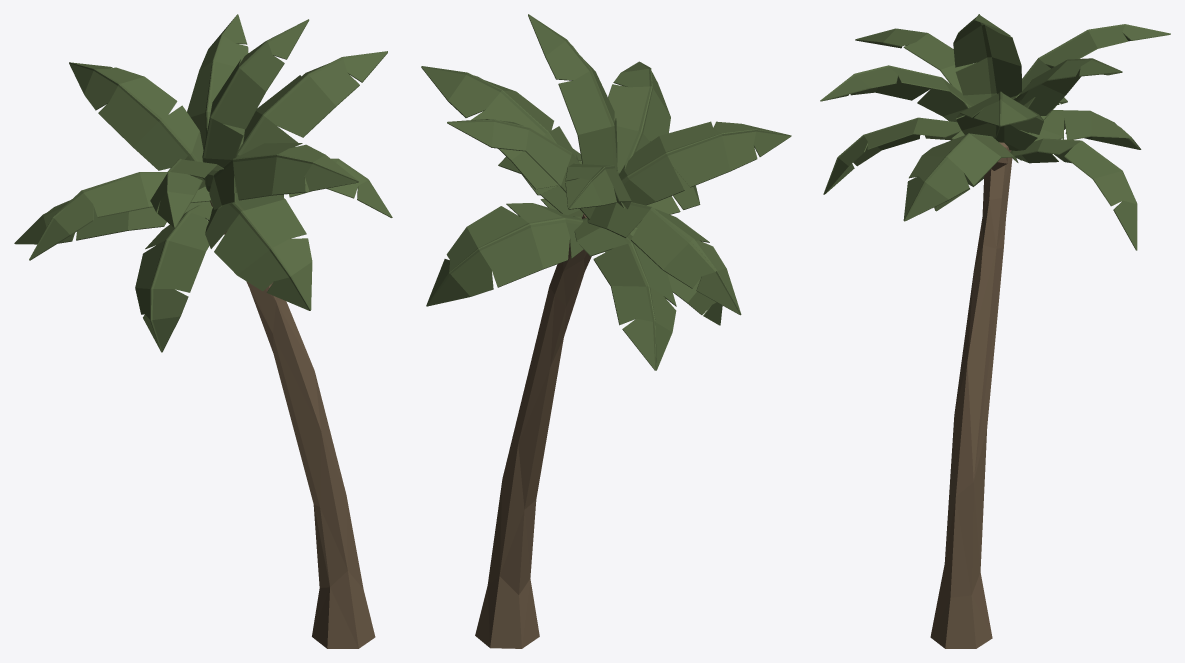
File: SM_Envr_Nature_Tree_Palm_03.fbx
3 renders of one model, left to right at view 1: azimuth 30°, elevation 25°; view 2: azimuth 150°, elevation 25°; view 3: azimuth 270°, elevation 25°, orthographic. The views are drawn at different scales.
Visible parts, largest first — view 1: SM_Envr_Nature_Tree_Palm_03; view 2: SM_Envr_Nature_Tree_Palm_03; view 3: SM_Envr_Nature_Tree_Palm_03.
Boxes of the visible parts, x1,y1,x2,y2 form: SM_Envr_Nature_Tree_Palm_03: (14,14,392,648); SM_Envr_Nature_Tree_Palm_03: (421,14,791,648); SM_Envr_Nature_Tree_Palm_03: (820,14,1170,648).
Bounding box in the file's own units: 617 × 1089 × 572.
